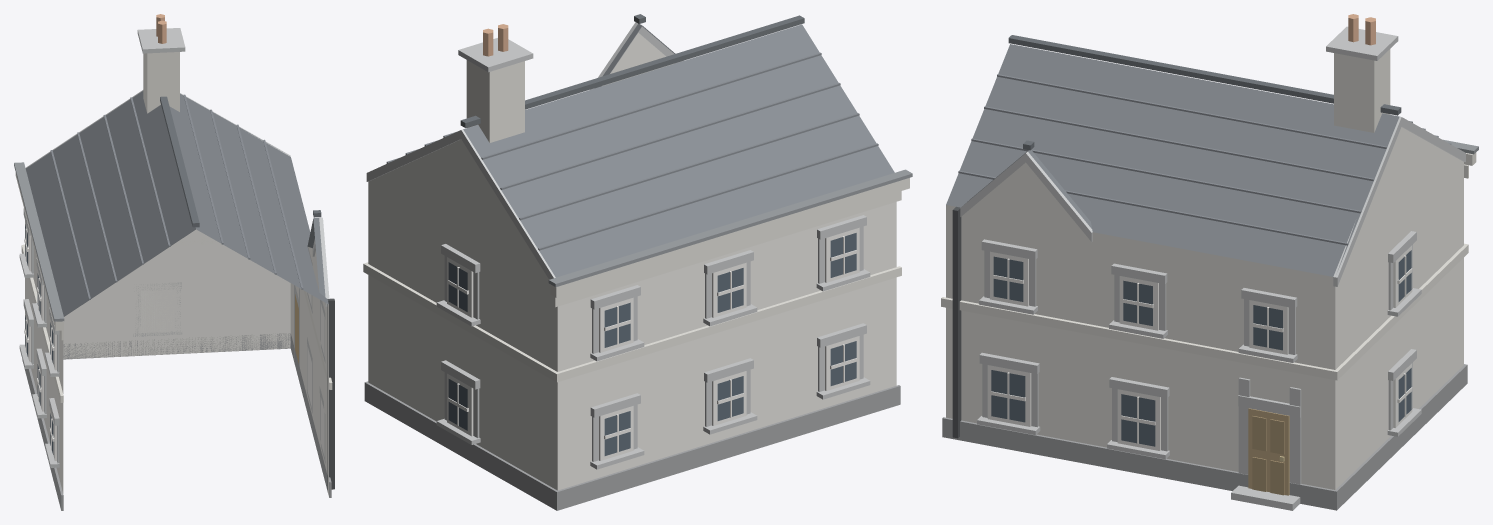
The picture shows the model from 3 angles, left to right: view 1: azimuth 30°, elevation 25°; view 2: azimuth 150°, elevation 25°; view 3: azimuth 270°, elevation 25°; orthographic projection. The views are drawn at different scales.
Parts seen in each view (by area): view 1: slate, harl, stone_band, slate_lt, plinth, frame, chim_render, lead, pipe, slate_dk, string; view 2: harl, slate, stone_band, string, plinth, frame, slate_lt, chim_render, lead, slate_dk, window_glass_012, window_glass_009 (+6 smaller); view 3: harl, slate, stone_band, plinth, frame, string, slate_lt, chim_render, slate_dk, pipe, door_wood_p, door_wood (+6 smaller).
Boxes of the visible parts, x1,y1,x2,y2 form: slate: (26,91,328,316); harl: (25,221,328,495); stone_band: (19,28,329,467); slate_lt: (50,94,303,299); plinth: (22,333,331,510); frame: (24,223,324,460); chim_render: (143,52,179,113); lead: (14,162,64,321); pipe: (327,298,334,489); slate_dk: (160,96,321,227); string: (15,172,332,402); harl: (368,33,896,490); slate: (463,24,894,277); stone_band: (366,22,870,469); string: (363,178,909,382); plinth: (364,381,900,510); frame: (447,227,859,460); slate_lt: (386,52,878,250); chim_render: (466,60,524,142); lead: (548,169,912,286); slate_dk: (460,14,804,127); window_glass_012: (830,341,856,385); window_glass_009: (604,302,630,347); harl: (946,127,1463,489); slate: (946,44,1399,276); stone_band: (960,26,1465,510); plinth: (942,364,1467,510); frame: (987,245,1412,450); string: (941,152,1476,380); slate_lt: (958,74,1451,245); chim_render: (1334,49,1390,132); slate_dk: (1008,35,1401,150); pipe: (952,206,961,438); door_wood_p: (1252,416,1284,495); door_wood: (1248,408,1289,495).
Bounding box in the file's own units: 10.49 × 10.01 × 11.57.
